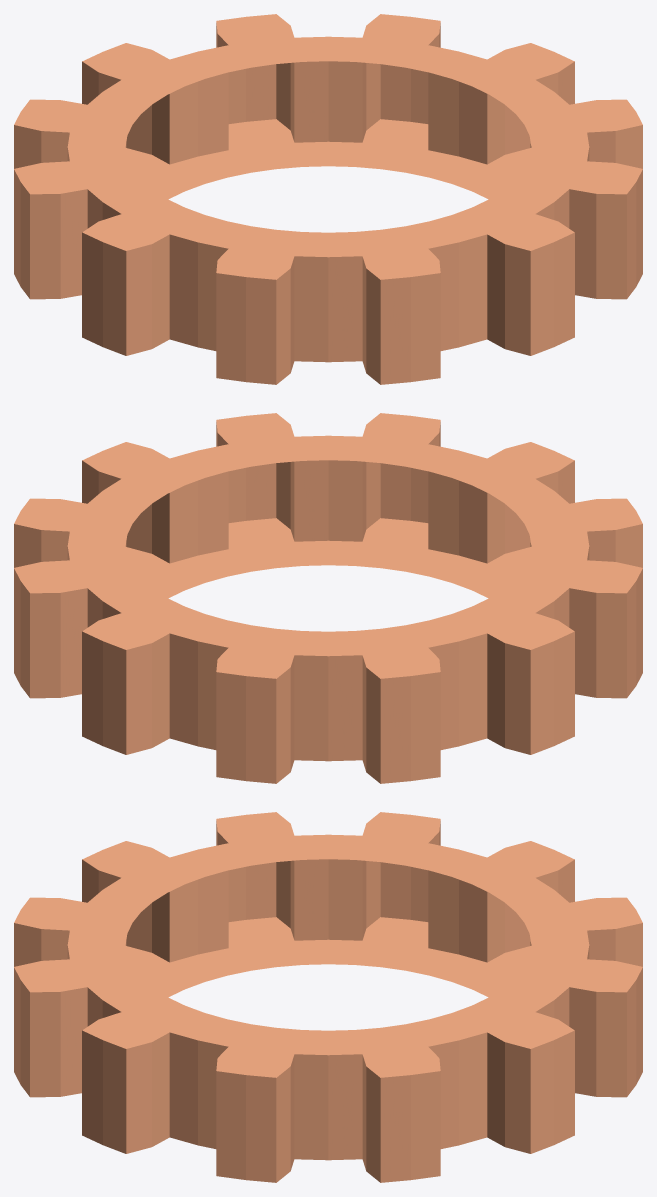
Rendered from gear_01.gltf.
The picture shows the model from 3 angles, top to bottom: view 1: azimuth 30°, elevation 25°; view 2: azimuth 150°, elevation 25°; view 3: azimuth 270°, elevation 25°; orthographic projection.
Parts seen in each view (by area): view 1: Gear01; view 2: Gear01; view 3: Gear01.
Boxes of the visible parts, left/top/right/bottom form: Gear01: left=14, top=14, right=642, bottom=384; Gear01: left=14, top=413, right=642, bottom=783; Gear01: left=14, top=812, right=642, bottom=1182.
Bounding box in the file's own units: 2.17 × 0.4 × 2.17.
